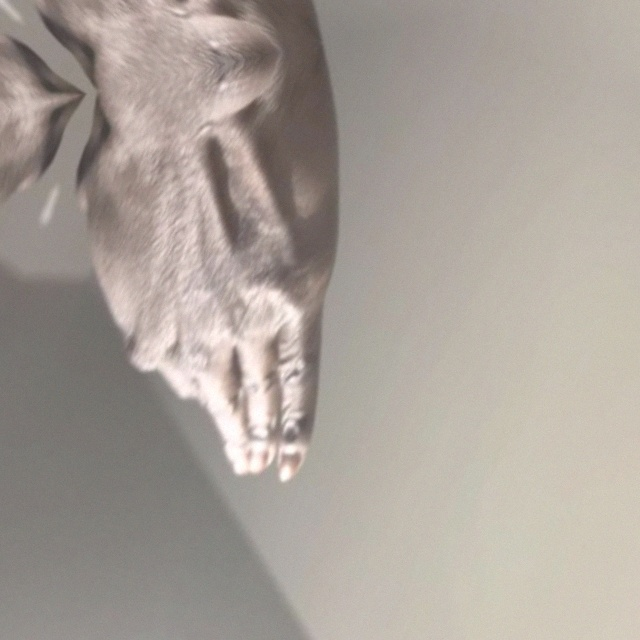Paper: (0, 0, 450, 126)
